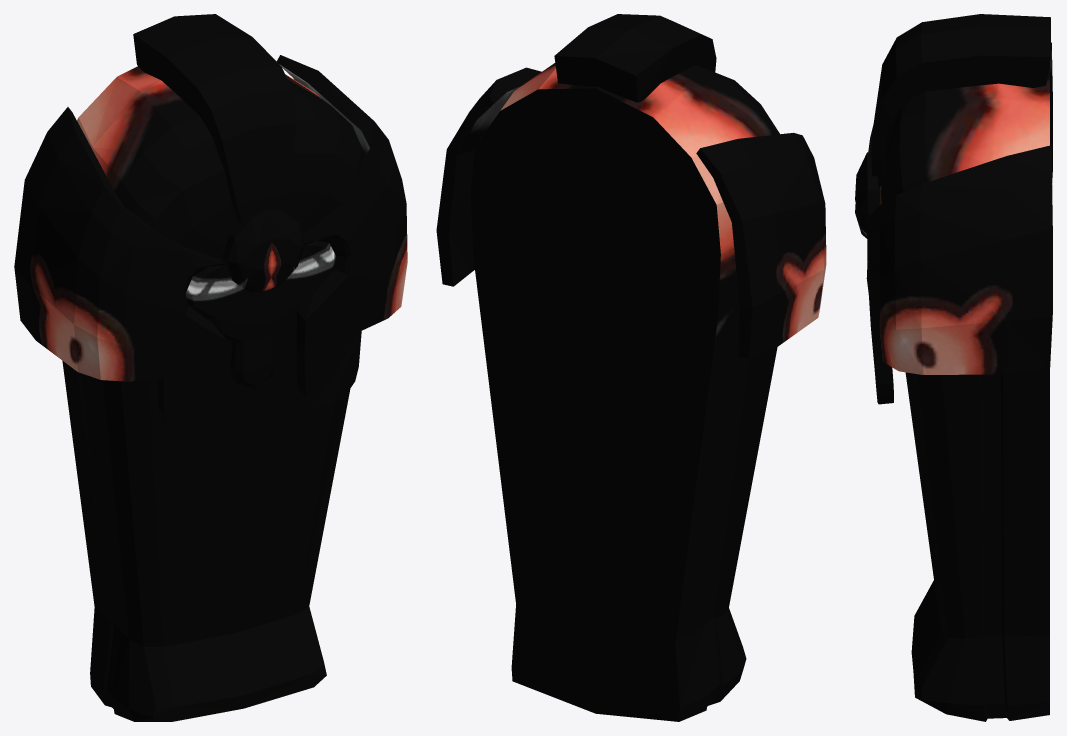
Rendered from 0057_HT_FX_SiShenGuan_guancai.glb.
The picture shows the model from 3 angles, left to right: view 1: azimuth 30°, elevation 25°; view 2: azimuth 150°, elevation 25°; view 3: azimuth 270°, elevation 25°; orthographic projection.
Bounding box in the file's own units: 1.15 × 2.2 × 0.596.
Materials: 1 (1 with a texture image).
